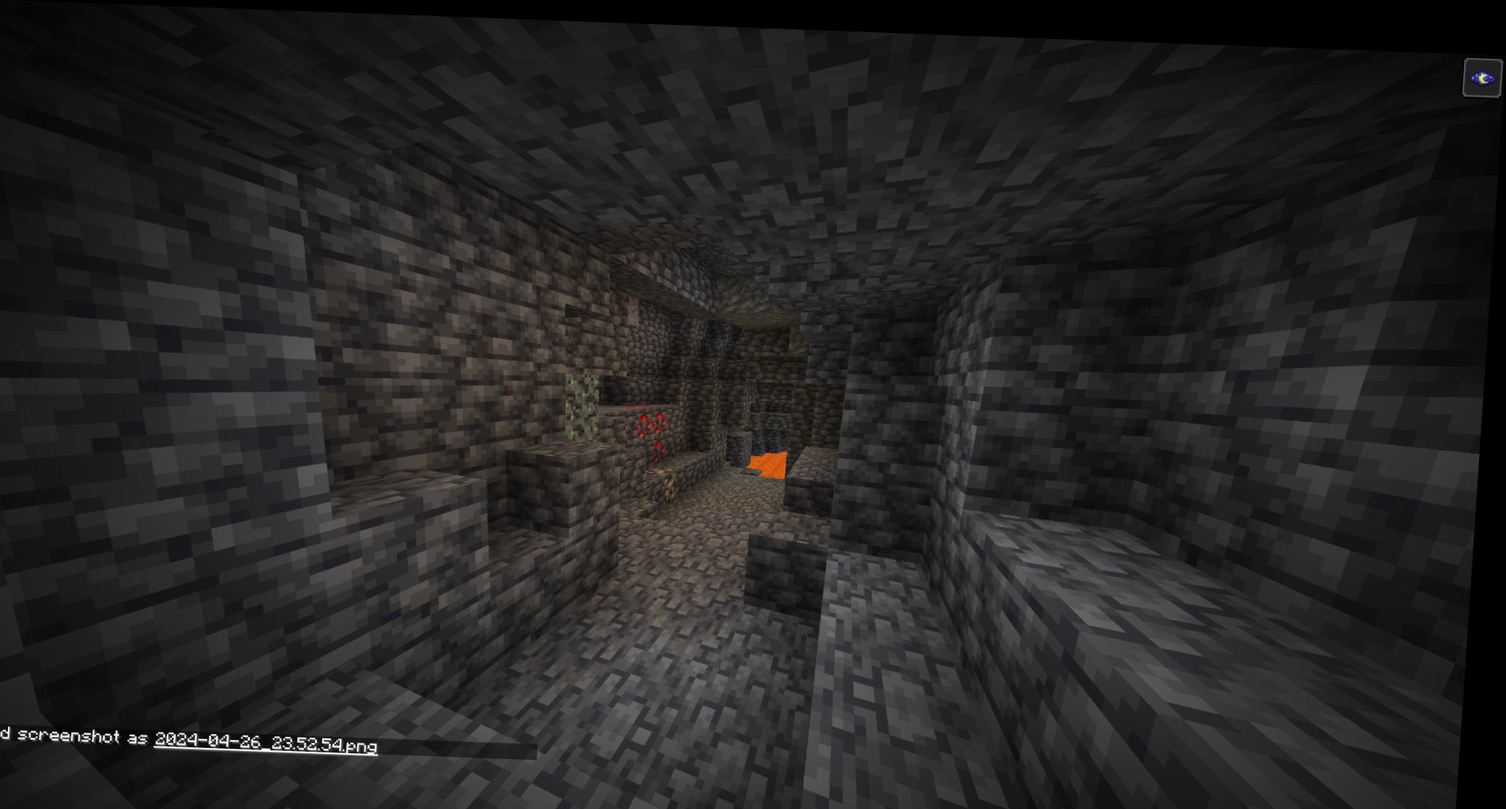iron ore: (655, 456, 687, 494)
redstone ore: (638, 399, 676, 454)
